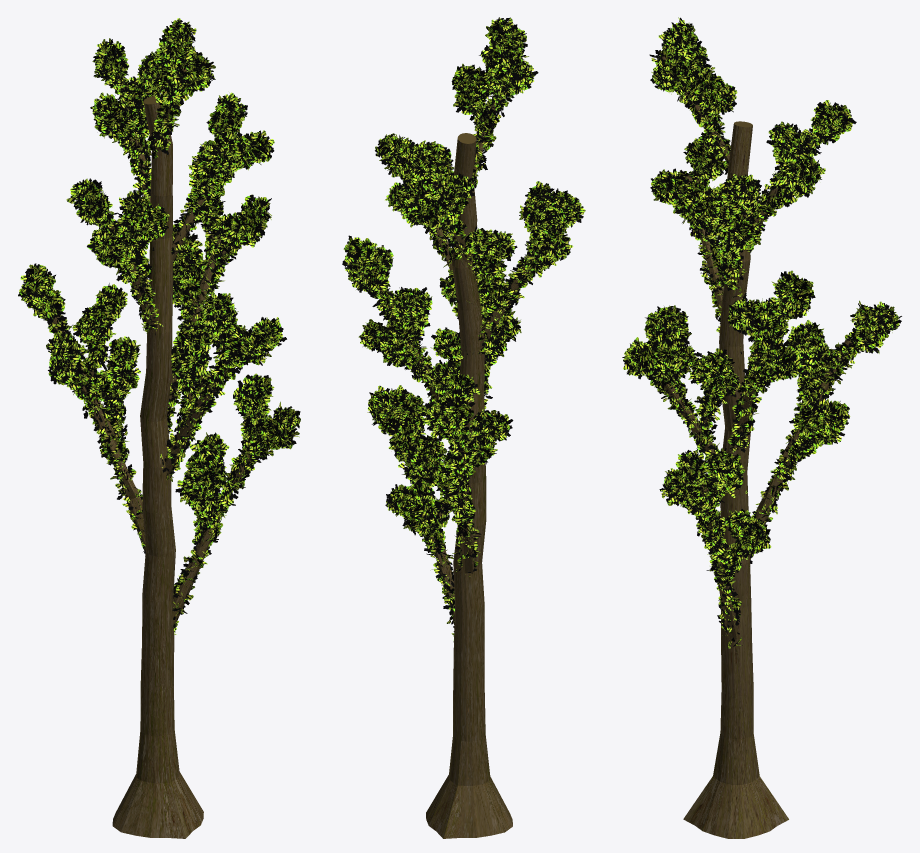
File: baldcypress_v01.fbx
3 views of the same model, side by side, from view 1: azimuth 30°, elevation 25°; view 2: azimuth 150°, elevation 25°; view 3: azimuth 270°, elevation 25° (orthographic). The views are drawn at different scales.
Visible parts, largest first — view 1: baldcypress_v01; view 2: baldcypress_v01; view 3: baldcypress_v01.
Part boxes in pixels (<box>): baldcypress_v01: <box>18,18,300,838</box>; baldcypress_v01: <box>342,17,585,838</box>; baldcypress_v01: <box>622,17,901,838</box>.
Bounding box in the file's own units: 804 × 903 × 2761.
2 materials, 2 textured.
